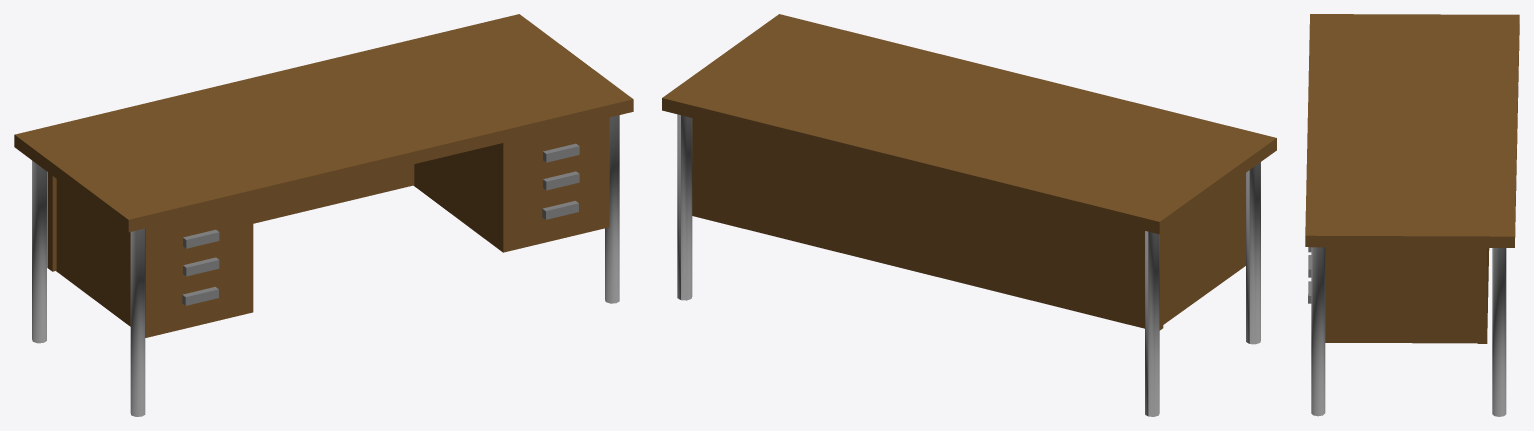
The model's file is teacher-desk.glb.
The picture shows the model from 3 angles, left to right: view 1: azimuth 30°, elevation 25°; view 2: azimuth 150°, elevation 25°; view 3: azimuth 270°, elevation 25°; orthographic projection. The views are drawn at different scales.
Visible parts, largest first — view 1: teacherDesk; view 2: teacherDesk; view 3: teacherDesk.
Boxes of the visible parts, x1=… form: teacherDesk: x1=14, y1=14, x2=633, y2=416; teacherDesk: x1=662, y1=14, x2=1276, y2=416; teacherDesk: x1=1305, y1=14, x2=1519, y2=416.
Size of the model in its own units: 2.45 by 0.9425 by 0.9967.
